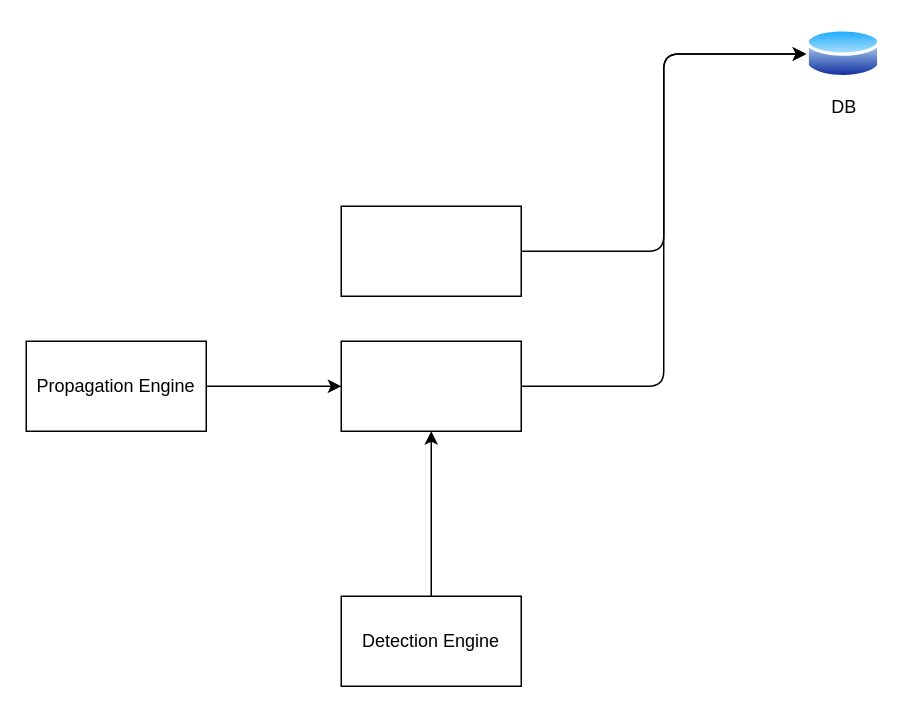
The diagram is 908 pixels wide and 713 high, and some of its shapes have lost their labels. Each missing label, with the box of its shape:
Central System: (340, 340, 521, 431)
onboarding: (340, 205, 521, 296)
